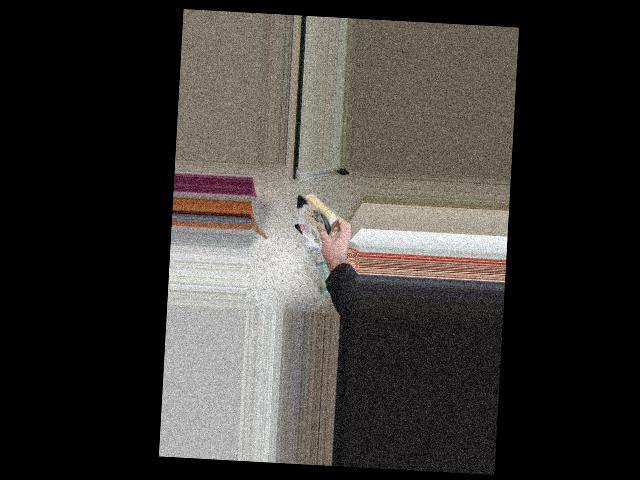cheese: (277, 178, 357, 247)
